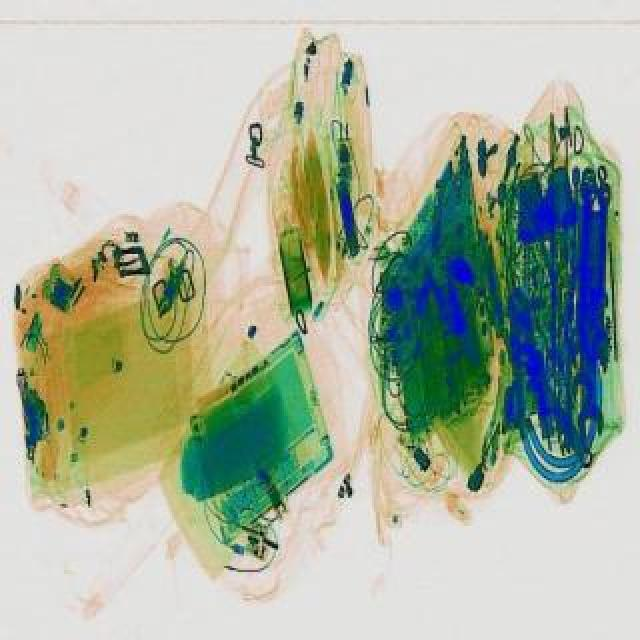scissors: (574, 348, 606, 432), (568, 328, 596, 400)
